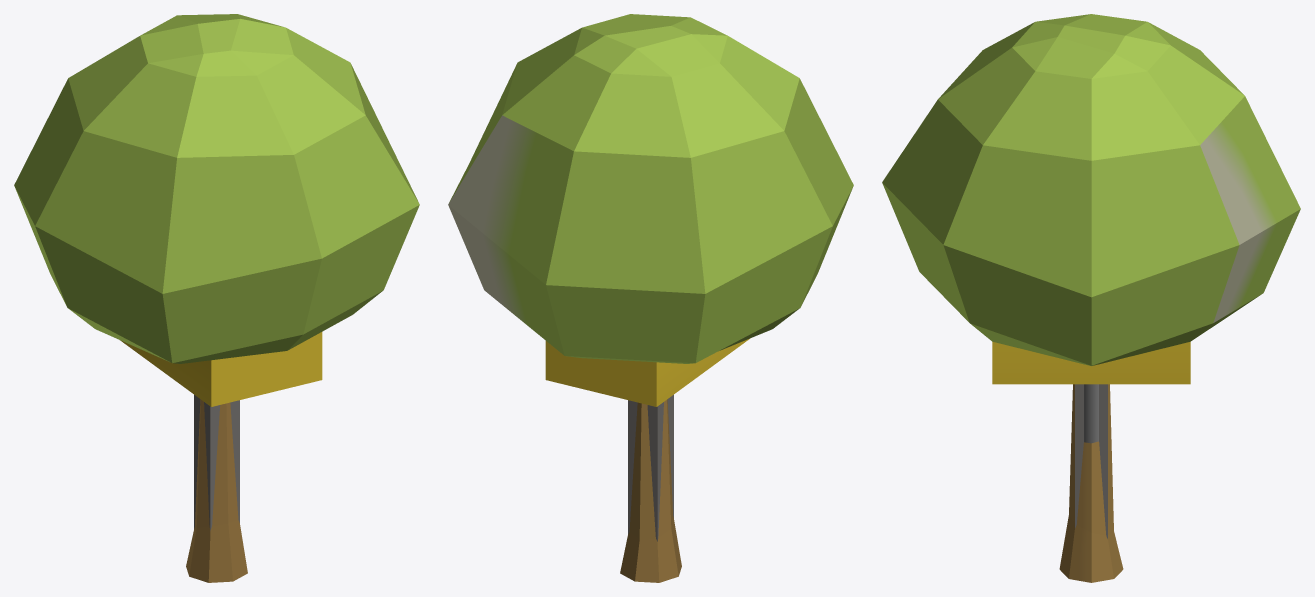
Rendered from elem.fbx.
The picture shows the model from 3 angles, left to right: view 1: azimuth 30°, elevation 25°; view 2: azimuth 150°, elevation 25°; view 3: azimuth 270°, elevation 25°; orthographic projection.
Parts seen in each view (by area): view 1: tree, mailbox; view 2: tree, mailbox; view 3: tree, mailbox, panneau_rond.
Boxes of the visible parts, x1,y1,x2,y2 form: tree: [14, 14, 419, 582]; mailbox: [120, 332, 322, 530]; tree: [448, 14, 853, 582]; mailbox: [545, 338, 750, 541]; tree: [882, 14, 1300, 582]; mailbox: [992, 341, 1190, 538]; panneau_rond: [1084, 384, 1098, 443].
Size of the model in its own units: 5.97 by 8.41 by 5.97.
Materials: 1 (1 with a texture image).
